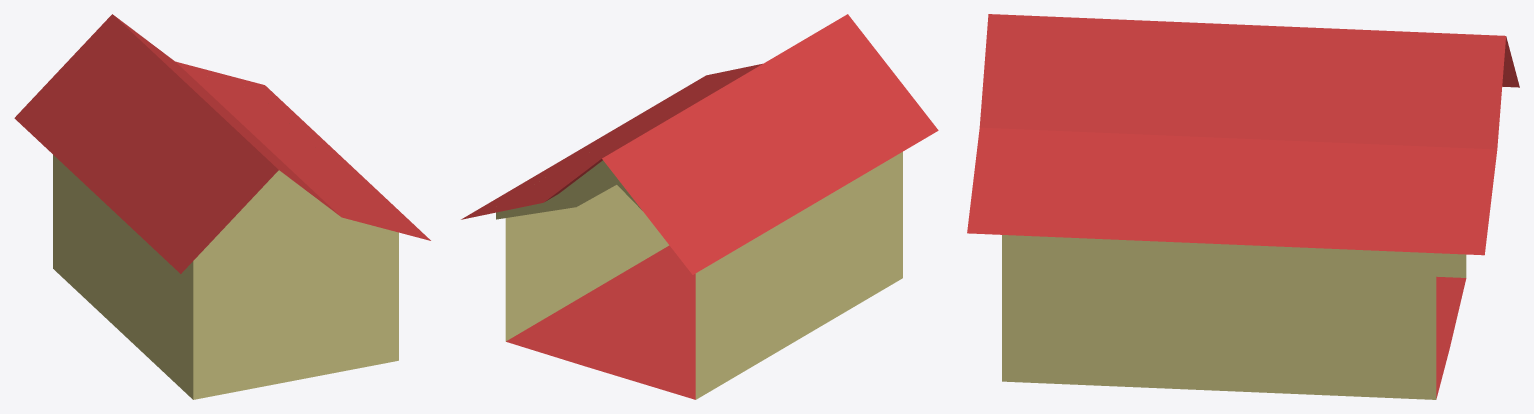
3 views of the same model, side by side, from view 1: azimuth 30°, elevation 25°; view 2: azimuth 150°, elevation 25°; view 3: azimuth 270°, elevation 25° (orthographic). The views are drawn at different scales.
Size of the model in its own units: 12.71 by 17.42 by 10.05.
